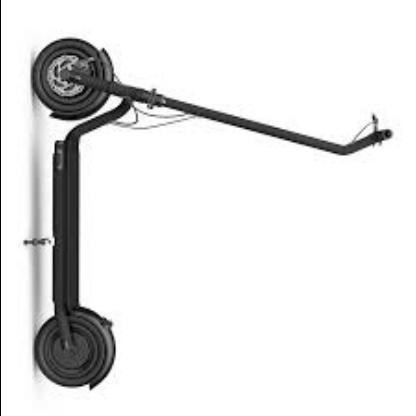bike: (31, 36, 399, 394)
